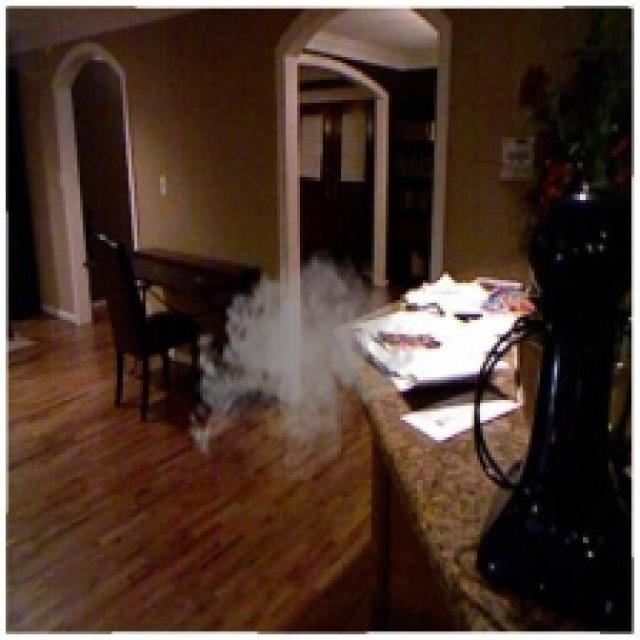Smoke: (182, 246, 418, 488)
